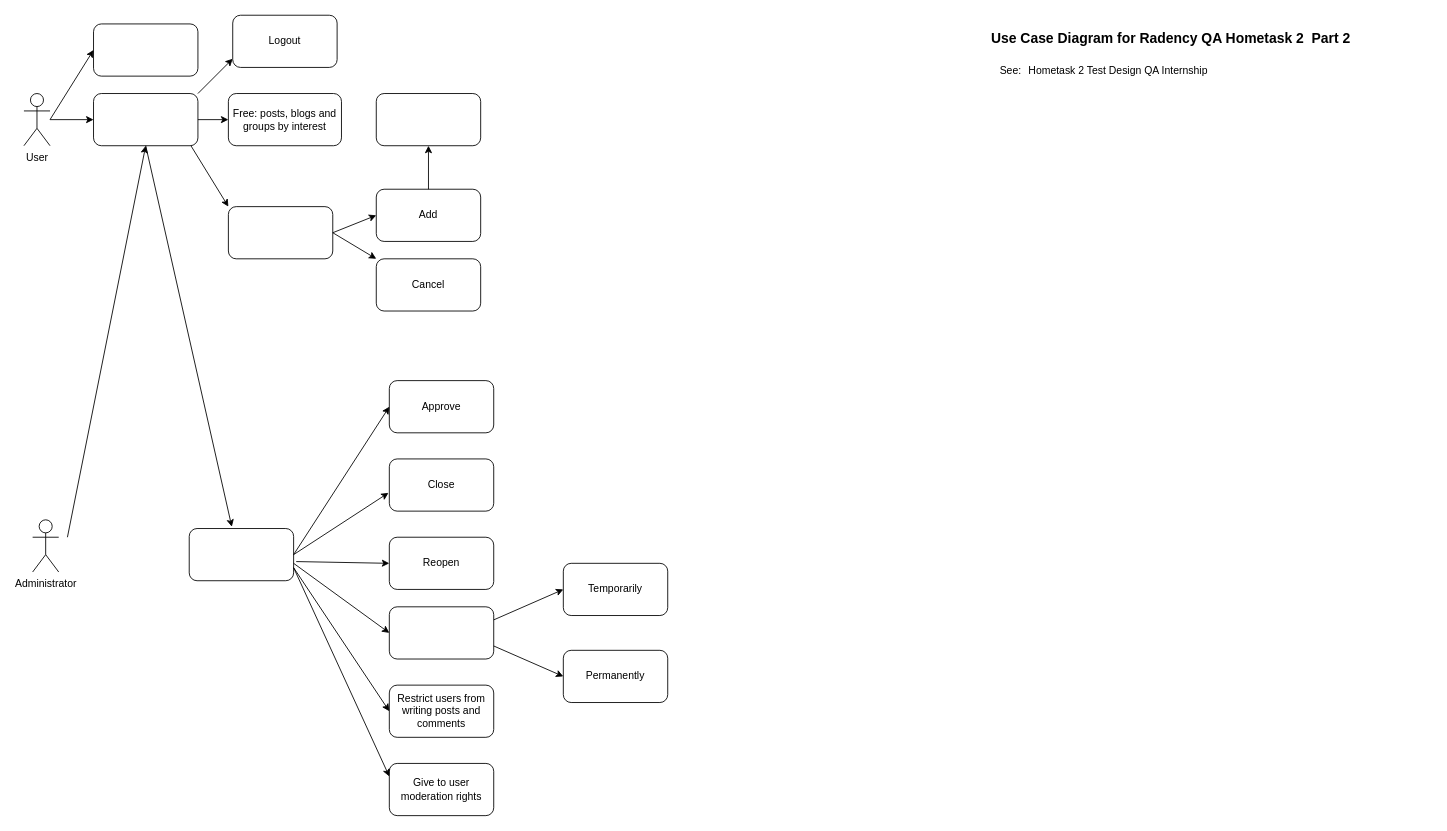
Some shapes in this 1447 by 831 pixel diagram are drawn without their labels. The shapes that lost their labels are listed below. From the top down, each one's centre as x and y in pixels, then its label:
[145,49]: Registration
[145,119]: Login
[428,119]: Payed: groups by interest and groups of professionals
[280,232]: Subscription
[241,554]: Accounts
[441,632]: Ban
